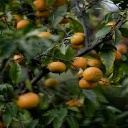orange: (15, 89, 38, 110), (80, 65, 104, 83), (48, 60, 67, 74)
